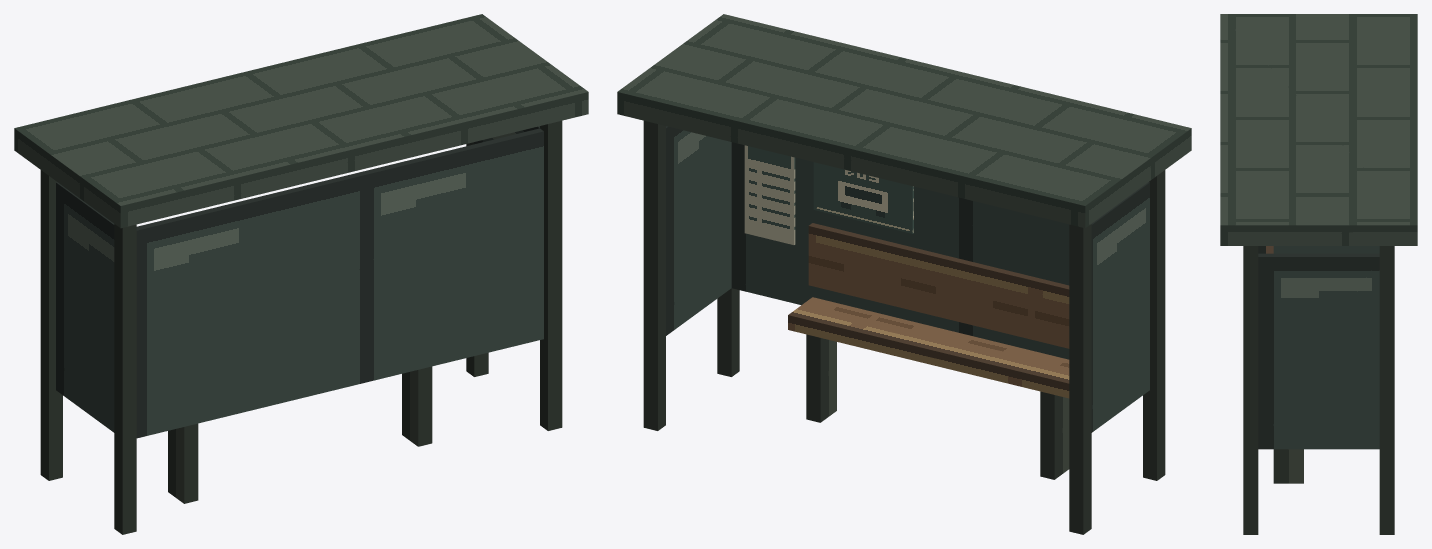
Rendered from bus_stop_shelter.gltf.
The picture shows the model from 3 angles, left to right: view 1: azimuth 30°, elevation 25°; view 2: azimuth 150°, elevation 25°; view 3: azimuth 270°, elevation 25°; orthographic projection. The views are drawn at different scales.
Parts seen in each view (by area): view 1: rear_panel, roof, post (×3), side_panel, bench_leg (×2); view 2: roof, side_panel (×2), post (×4), rear_panel, bench_back, bench_seat, bench_leg (×2), route_header, timetable; view 3: roof, side_panel (×2), post (×2), bench_leg.
Boxes of the visible parts, x1=… form: rear_panel: x1=136, y1=128, x2=543, y2=438; roof: x1=14, y1=14, x2=588, y2=228; post (×3): x1=40, y1=120, x2=562, y2=534; side_panel: x1=56, y1=182, x2=114, y2=432; bench_leg (×2): x1=168, y1=366, x2=432, y2=503; roof: x1=617, y1=14, x2=1191, y2=228; side_panel (×2): x1=666, y1=126, x2=1149, y2=432; post (×4): x1=643, y1=120, x2=1165, y2=534; rear_panel: x1=731, y1=142, x2=1069, y2=359; bench_back: x1=808, y1=223, x2=1069, y2=348; bench_seat: x1=788, y1=297, x2=1069, y2=398; bench_leg (×2): x1=806, y1=334, x2=1069, y2=479; route_header: x1=813, y1=162, x2=913, y2=233; timetable: x1=744, y1=145, x2=795, y2=244; roof: x1=1220, y1=14, x2=1417, y2=245; side_panel (×2): x1=1258, y1=246, x2=1379, y2=449; post (×2): x1=1243, y1=246, x2=1394, y2=534; bench_leg: x1=1273, y1=449, x2=1303, y2=483.
Bounding box in the file's own units: 4.12 × 2.88 × 1.62.
Materials: 6 (6 with a texture image).
